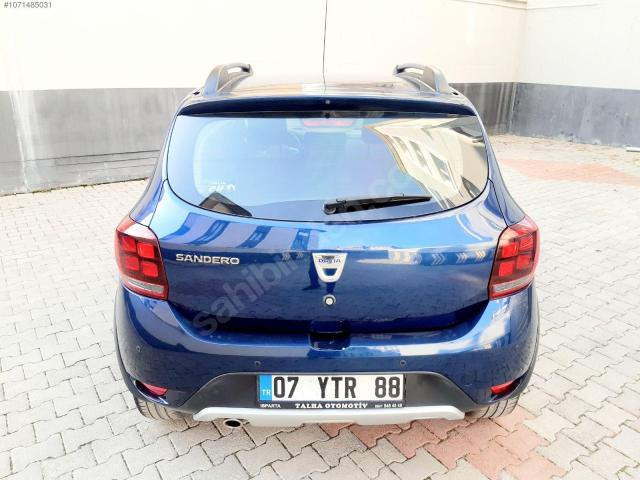plaka: (258, 374, 405, 408)
